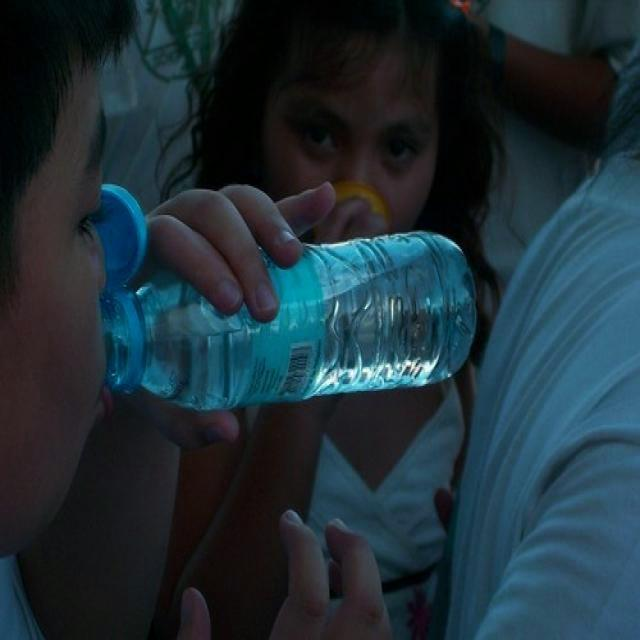bottle: (100, 231, 478, 410)
